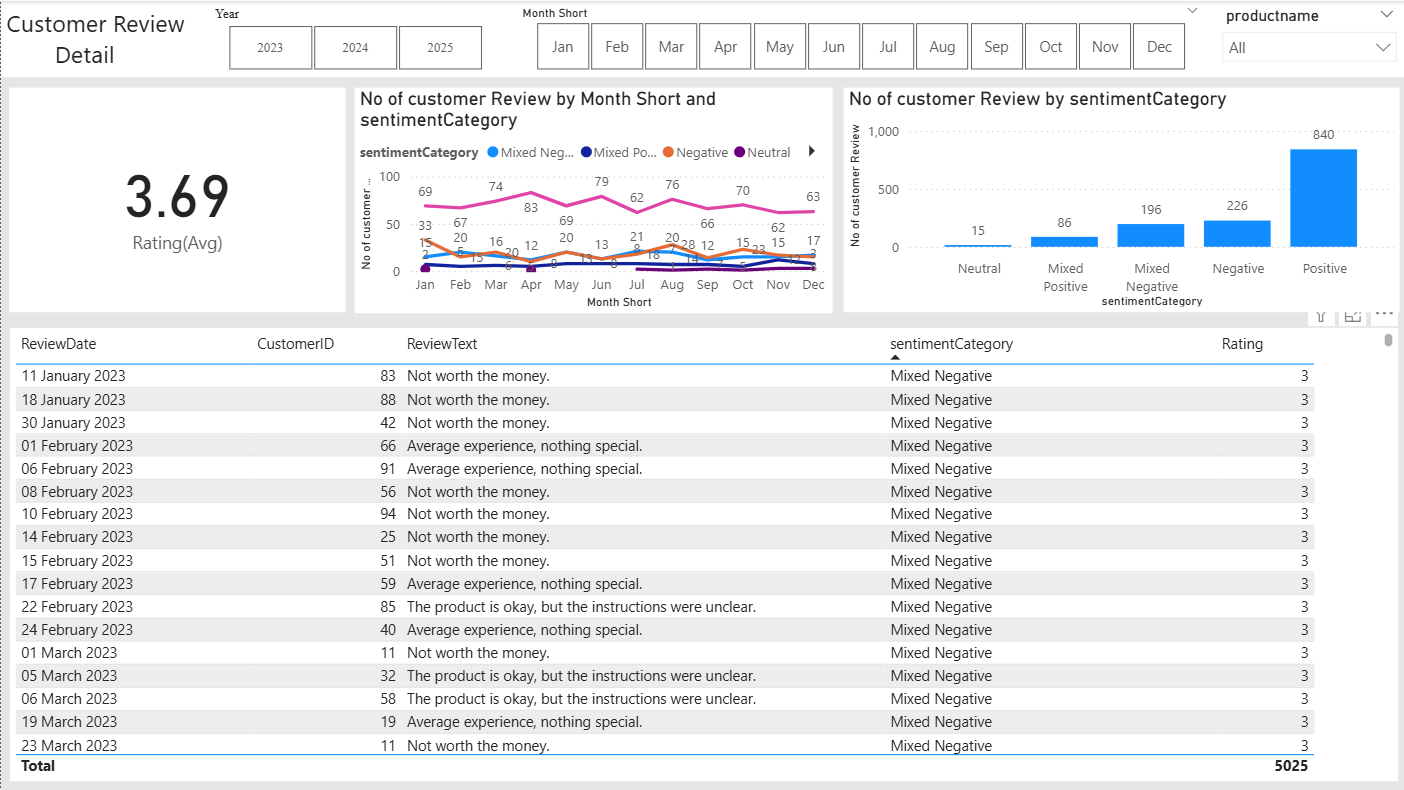

The dashboard page shown, as its layout file describes it:
{"tool":"powerbi","page":{"name":"Customer Review Detail","canvas":[1280,720],"ordinal":3},"visuals":[{"type":"textbox","box":[0,0,1280.1,69.5],"z":0},{"type":"slicer","fields":{"Values":["Date_Dim.Year"]},"box":[181.5,0,280.1,69.5],"z":1},{"type":"slicer","fields":{"Values":["dim_products.productname"]},"box":[1101.6,0,178.4,69.5],"z":2},{"type":"slicer","fields":{"Values":["Date_Dim.Month Short"]},"box":[461.6,0,640,69.5],"z":3},{"type":"card","fields":{"Values":["_Measures.Rating(Avg)"]},"box":[7.4,78.9,305.9,204],"z":4},{"type":"tableEx","fields":{"Values":["fact_sentiment.ReviewDate","fact_sentiment.CustomerID","fact_sentiment.ReviewText","fact_sentiment.sentimentCategory","Sum(fact_sentiment.Rating)"]},"box":[7.4,296.5,1264.8,414.2],"z":5},{"type":"lineChart","fields":{"Category":["Date_Dim.Month Short"],"Y":["_Measures.No of customer Review"],"Series":["fact_sentiment.sentimentCategory"]},"box":[321.7,78.9,435.3,205],"z":6},{"type":"columnChart","fields":{"Y":["_Measures.No of customer Review"],"Category":["fact_sentiment.sentimentCategory"]},"box":[766.4,78.9,505.7,204],"z":7}]}

Visuals, with their boxes in screenshot pixels (x1, y1, x2, y2), scaled from the page's 1280x720 canvas onto the 1404x790 screenshot:
textbox: <region>0, 0, 1403, 76</region>
slicer - Date_Dim.Year: <region>199, 0, 506, 76</region>
slicer - dim_products.productname: <region>1208, 0, 1403, 76</region>
slicer - Date_Dim.Month Short: <region>506, 0, 1208, 76</region>
card - _Measures.Rating(Avg): <region>8, 87, 344, 310</region>
tableEx - fact_sentiment.ReviewDate x fact_sentiment.CustomerID: <region>8, 325, 1395, 780</region>
lineChart - Date_Dim.Month Short x _Measures.No of customer Review: <region>353, 87, 830, 312</region>
columnChart - _Measures.No of customer Review x fact_sentiment.sentimentCategory: <region>841, 87, 1395, 310</region>
